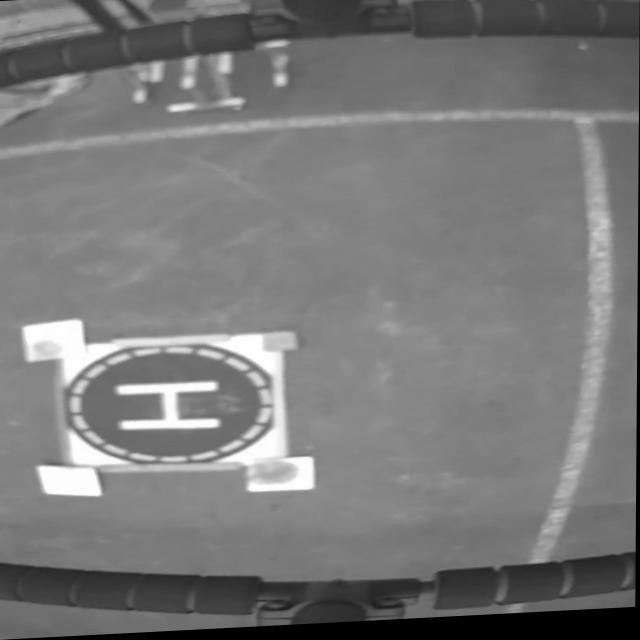Helipad: (116, 383, 221, 431)
